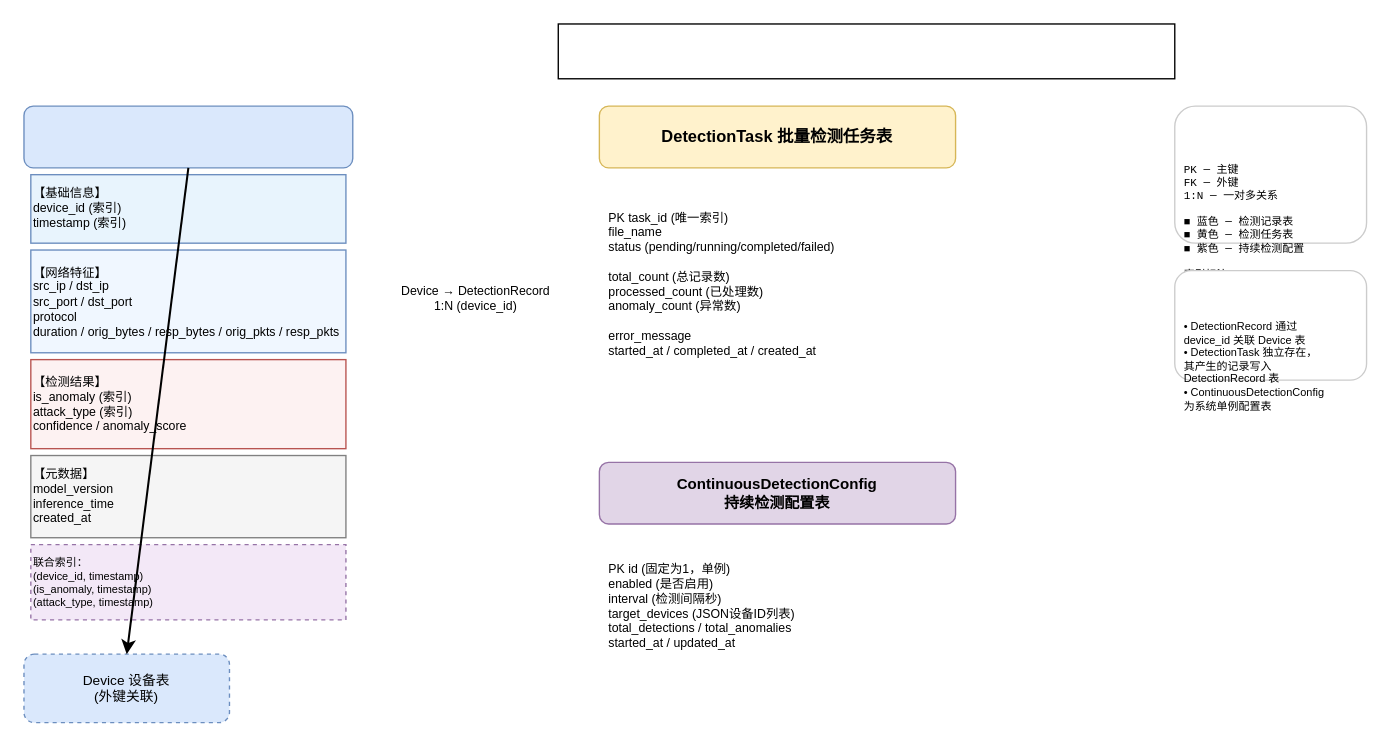
Image size: 1391x747. Some labels were removed from this diagram. Here are the shapes that lost their labels. From the top down, the box of each, then its label:
(557, 23, 1175, 79): 4.3.3 检测记录与检测任务数据模型 ER图
(23, 105, 353, 168): DetectionRecord 检测记录表
(1173, 105, 1367, 243): 图例说明
(1173, 269, 1367, 380): 说明
